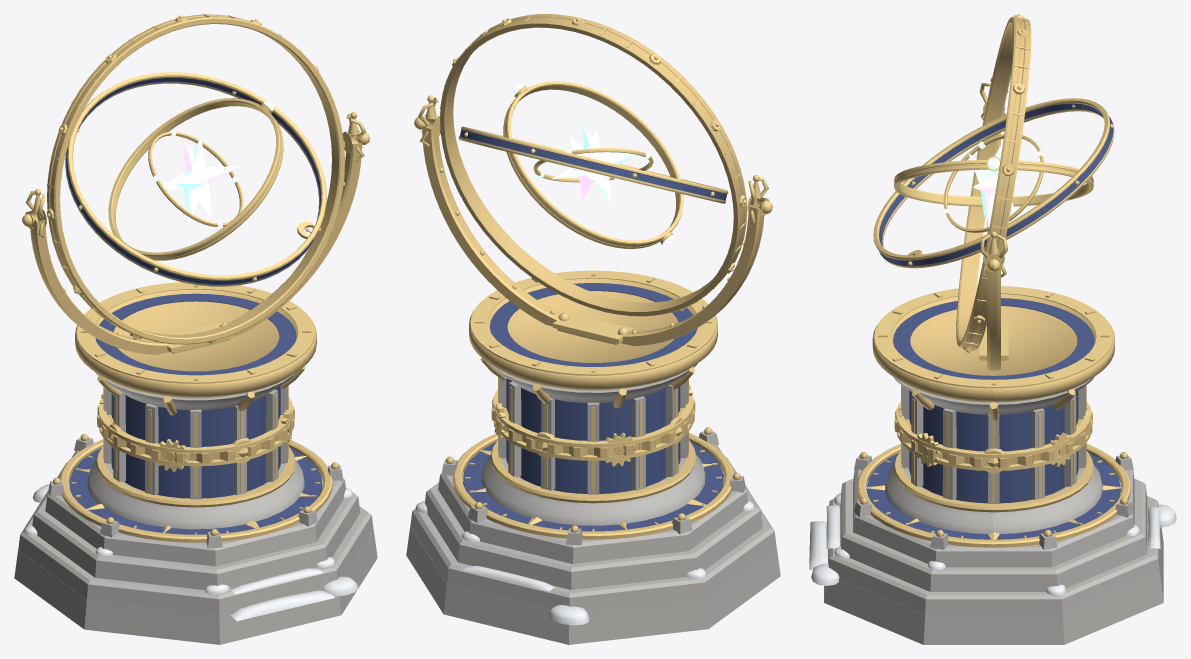
Rendered from wonder_astrolabe.glb.
3 renders of one model, left to right at view 1: azimuth 30°, elevation 25°; view 2: azimuth 150°, elevation 25°; view 3: azimuth 270°, elevation 25°, orthographic. The views are drawn at different scales.
Parts seen in each view (by area): view 1: astrolabe_base, ring_outer, ring_mid, ring_inner, star_core; view 2: astrolabe_base, ring_outer, ring_inner, ring_mid, star_core; view 3: astrolabe_base, ring_outer, ring_mid, ring_inner, star_core.
Part boxes in pixels (x1=…): astrolabe_base: x1=14, y1=112, x2=377, y2=644; ring_outer: x1=46, y1=14, x2=344, y2=344; ring_mid: x1=65, y1=72, x2=326, y2=286; ring_inner: x1=108, y1=98, x2=283, y2=260; star_core: x1=148, y1=130, x2=243, y2=228; astrolabe_base: x1=406, y1=95, x2=780, y2=644; ring_outer: x1=439, y1=14, x2=747, y2=316; ring_inner: x1=503, y1=81, x2=683, y2=248; ring_mid: x1=458, y1=126, x2=728, y2=203; star_core: x1=533, y1=124, x2=653, y2=205; astrolabe_base: x1=809, y1=78, x2=1176, y2=644; ring_outer: x1=956, y1=14, x2=1031, y2=352; ring_mid: x1=873, y1=98, x2=1114, y2=268; ring_inner: x1=894, y1=156, x2=1093, y2=206; star_core: x1=943, y1=134, x2=1044, y2=232.
Size of the model in its own units: 2.05 by 3.07 by 1.88.
